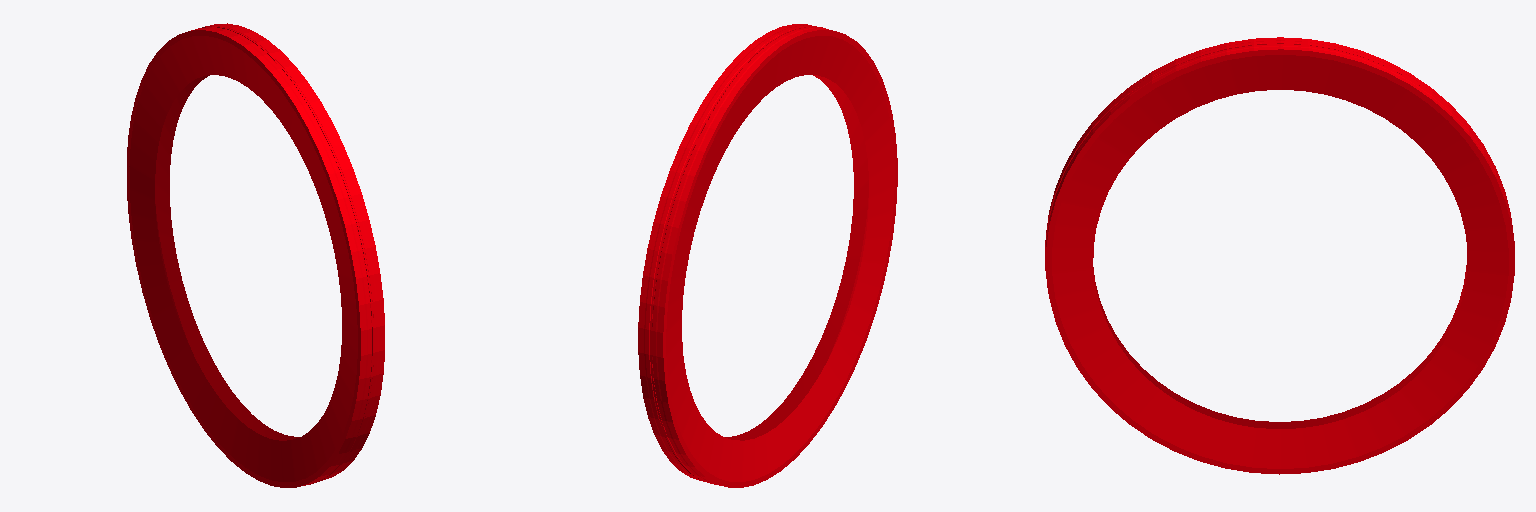
Rendered from Main_Ring.obj.
3 renders of one model, left to right at view 1: azimuth 30°, elevation 25°; view 2: azimuth 150°, elevation 25°; view 3: azimuth 270°, elevation 25°, orthographic.
Parts seen in each view (by area): view 1: MainBody.001_gate3.010; view 2: MainBody.001_gate3.010; view 3: MainBody.001_gate3.010.
Boxes of the visible parts, x1,y1,x2,y2 form: MainBody.001_gate3.010: [127, 23, 384, 487]; MainBody.001_gate3.010: [638, 24, 897, 487]; MainBody.001_gate3.010: [1045, 37, 1514, 474].
Bounding box in the file's own units: 0.4955 × 8.11 × 8.11.